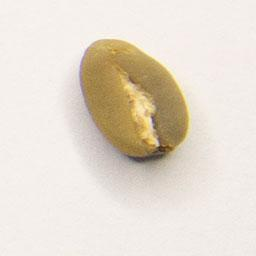premium: (76, 35, 192, 162)
